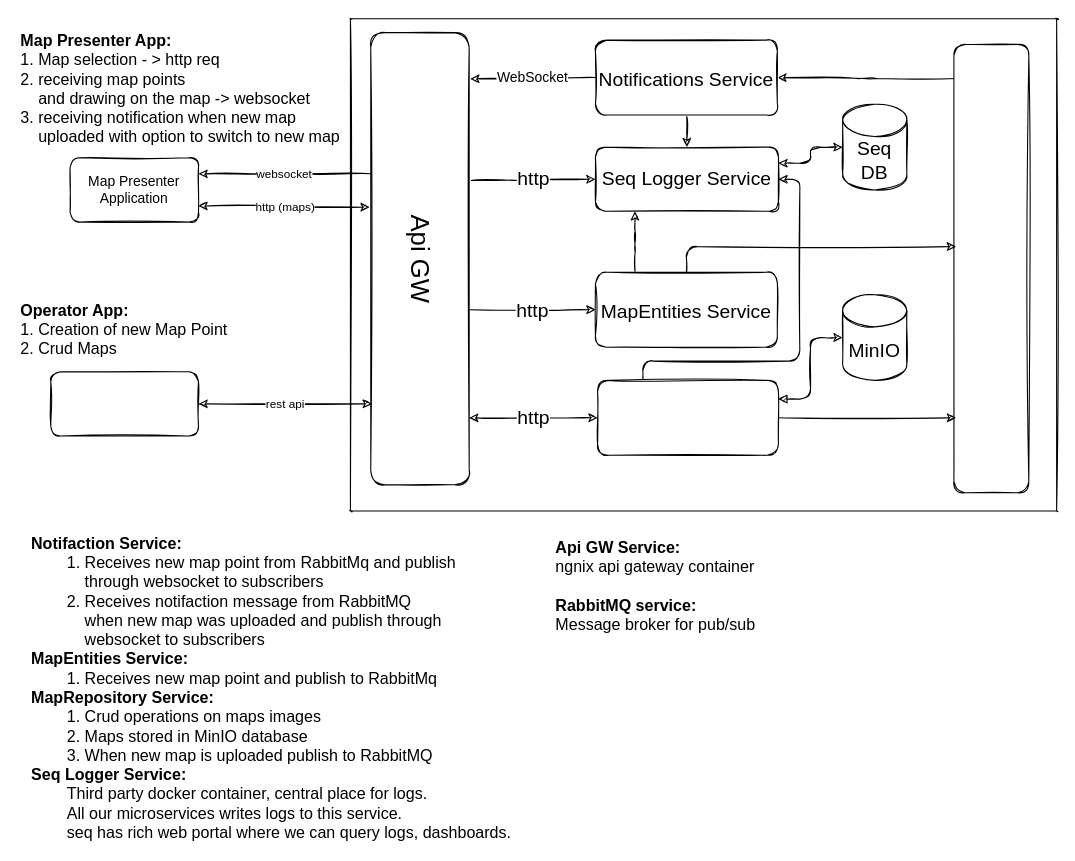
Image size: 1075x861. Some labels were removed from this diagram. The centre of each missing label's shape, as x and y in pixels:
MappeAngularClient: the point at 124,403
MapsRepository Service: the point at 687,417
RabbitMQ: the point at 991,268
